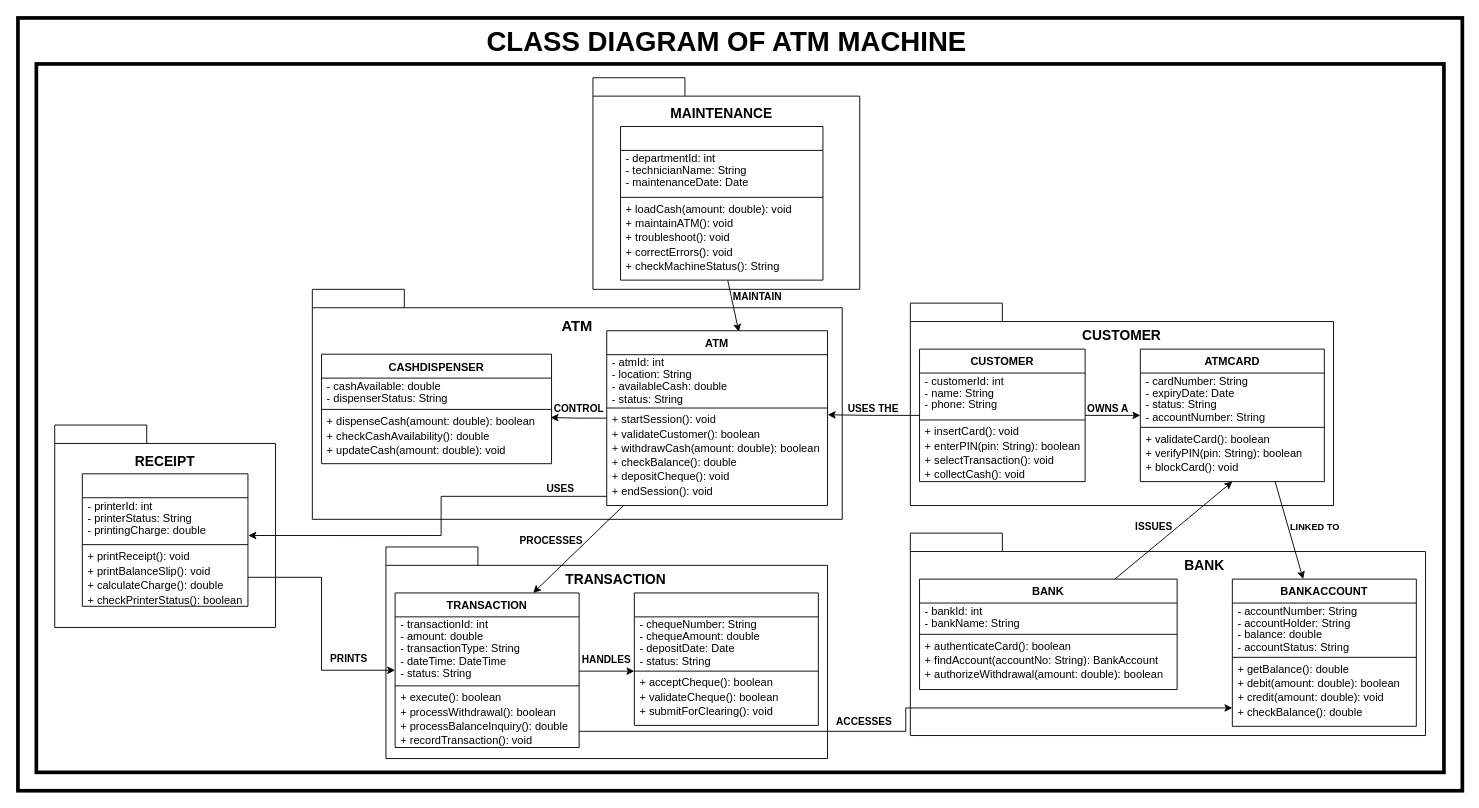
The diagram is 1479 pixels wide and 808 high, and some of its shapes have lost their labels. Each missing label, with the box of its shape:
CHEQUEDEPOSIT: (633, 592, 818, 725)
MAINTENENCEDEPT: (620, 126, 823, 280)
RECEIPTPRINTER: (81, 473, 248, 606)
